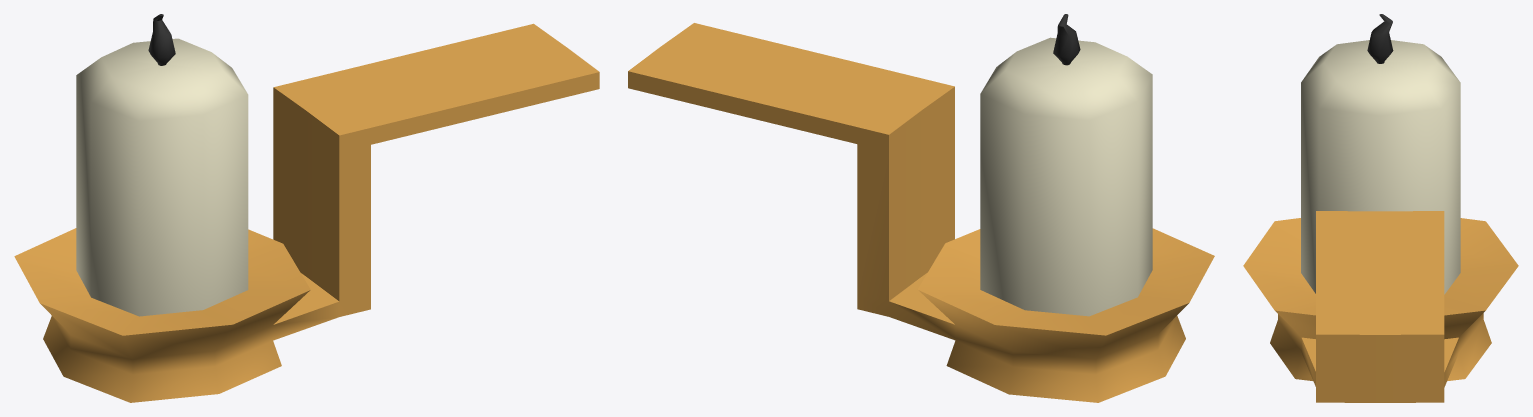
The model's file is Candle .fbx.
3 renders of one model, left to right at view 1: azimuth 30°, elevation 25°; view 2: azimuth 150°, elevation 25°; view 3: azimuth 270°, elevation 25°, orthographic. The views are drawn at different scales.
Parts seen in each view (by area): view 1: Cube; view 2: Cube; view 3: Cube.
Boxes of the visible parts, x1=… form: Cube: x1=14, y1=14, x2=599, y2=402; Cube: x1=628, y1=14, x2=1214, y2=402; Cube: x1=1243, y1=14, x2=1518, y2=402.
Bounding box in the file's own units: 7.53 × 4.59 × 3.5.
